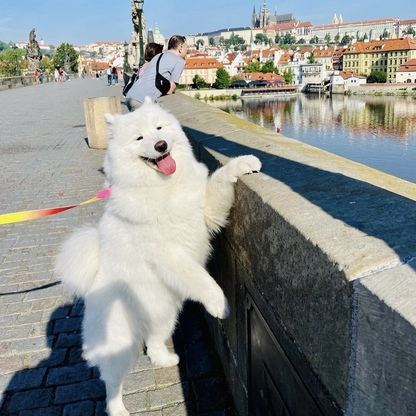samoyed: (51, 91, 270, 416)
